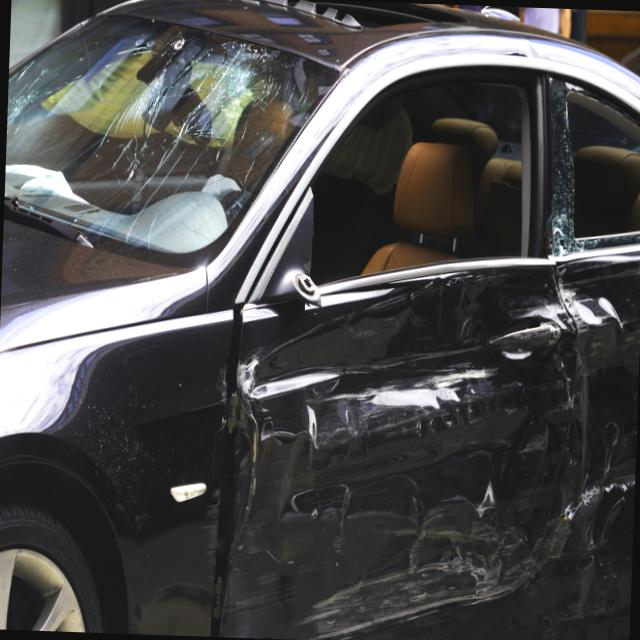Cabossage: (229, 240, 565, 640)
Fissure: (80, 24, 334, 252), (4, 40, 82, 201)
